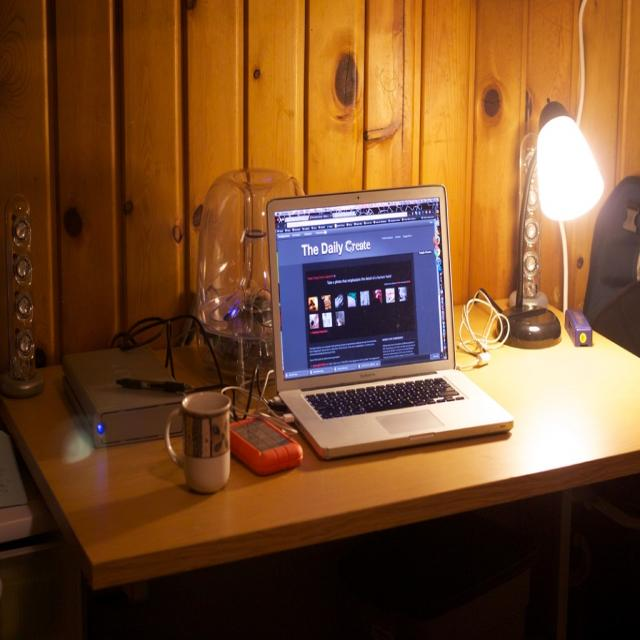chair: (582, 174, 640, 350)
desk: (0, 300, 639, 639)
laptop: (267, 183, 515, 463)
